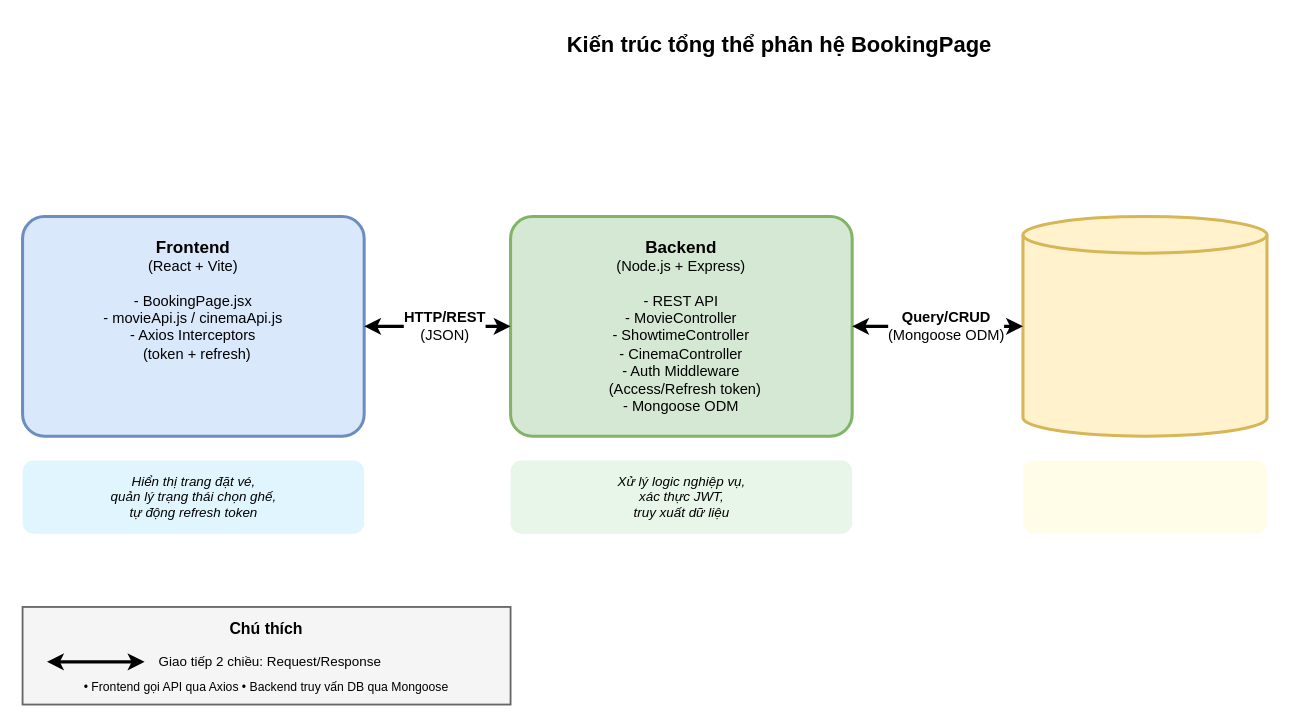
This 1290x726 diagram has some shape labels left out. The box of each missing label's shape, as (x1, y1, x2, y2) in pixels:
Lưu trữ thông tin phim, lịch chiếu, rạp chiếu, và thông tin liên quan: (1022, 460, 1266, 533)
MongoDB - movies - showtimes - cinemas - persons: (1021, 214, 1268, 437)
